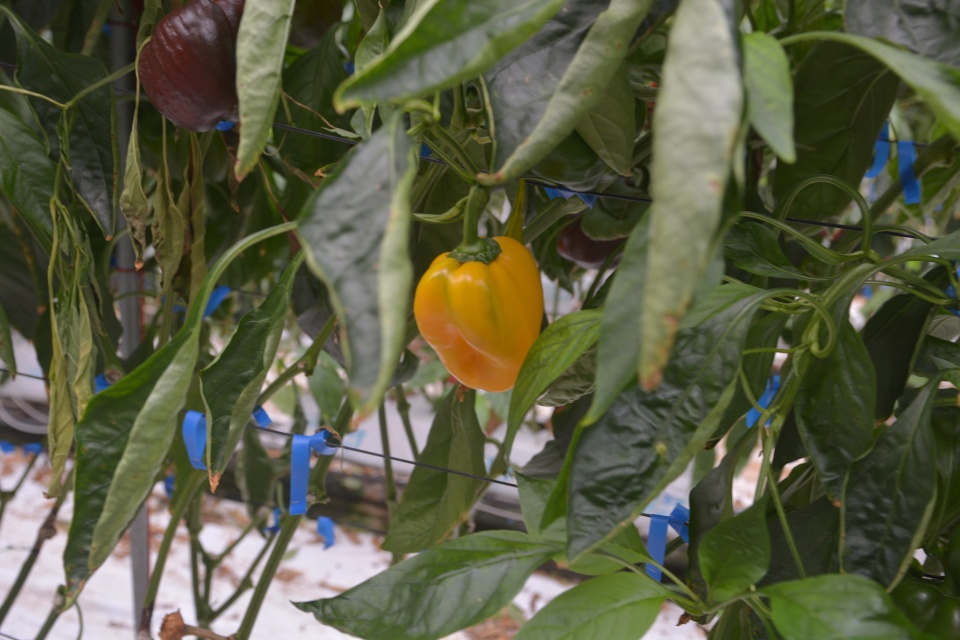fruit: (412, 233, 546, 395), (136, 0, 246, 136), (528, 96, 648, 194), (890, 573, 959, 640)
pedicle: (444, 236, 502, 265)
